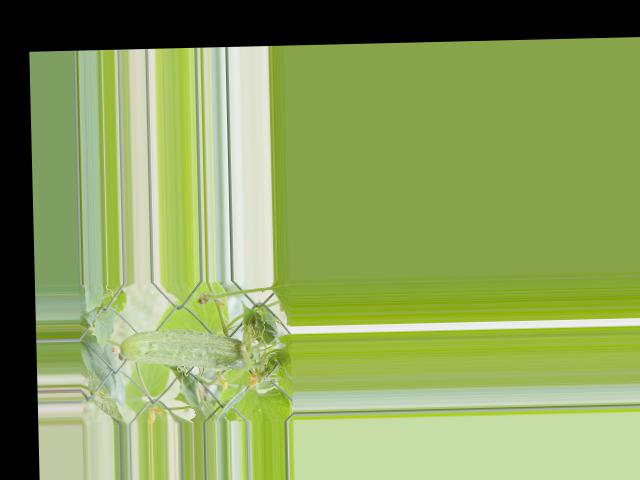cucumber: (111, 328, 252, 371)
